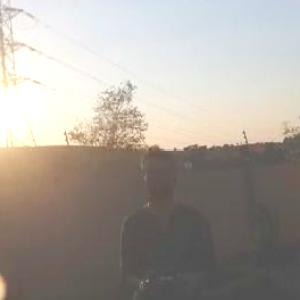follow: (117, 142, 211, 299)
